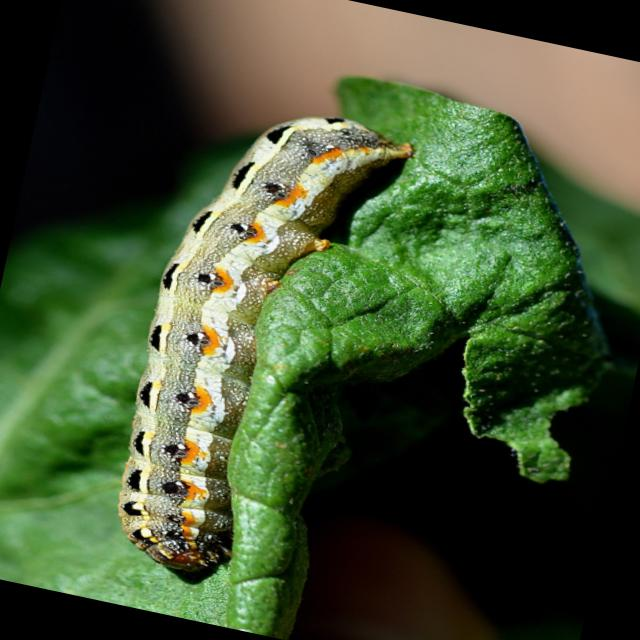Armyworm: (70, 71, 428, 632)
